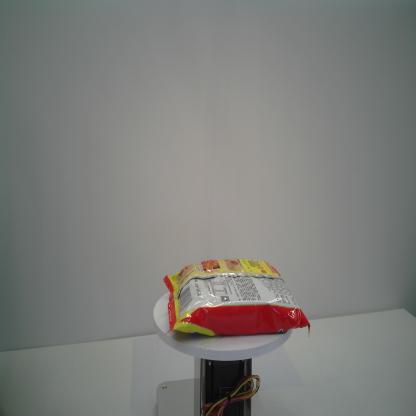Instant Noodles: (162, 258, 311, 340)
